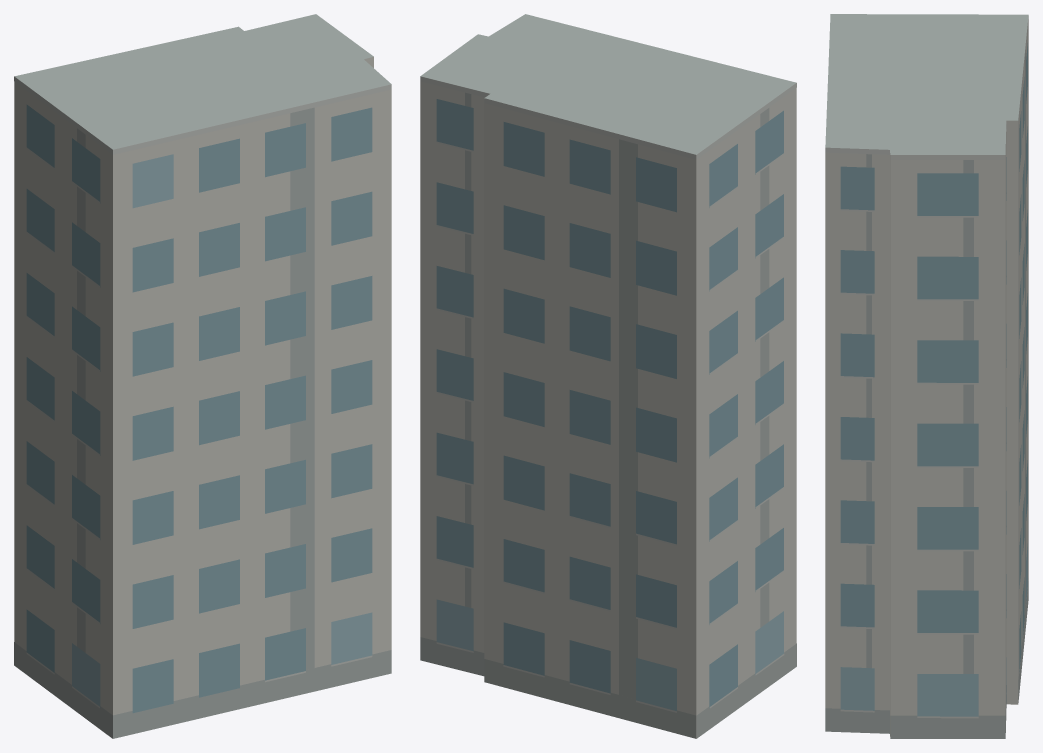
File: survey-upis-32478150.glb
3 views of the same model, side by side, from view 1: azimuth 30°, elevation 25°; view 2: azimuth 150°, elevation 25°; view 3: azimuth 270°, elevation 25° (orthographic).
Parts seen in each view (by area): view 1: survey-upis-32478150.tmp; view 2: survey-upis-32478150.tmp; view 3: survey-upis-32478150.tmp.
Part boxes in pixels (bbox=[...]): survey-upis-32478150.tmp: bbox=[14, 14, 391, 738]; survey-upis-32478150.tmp: bbox=[420, 14, 796, 738]; survey-upis-32478150.tmp: bbox=[825, 14, 1028, 738].
Bounding box in the file's own units: 14.54 × 28.05 × 8.86.
